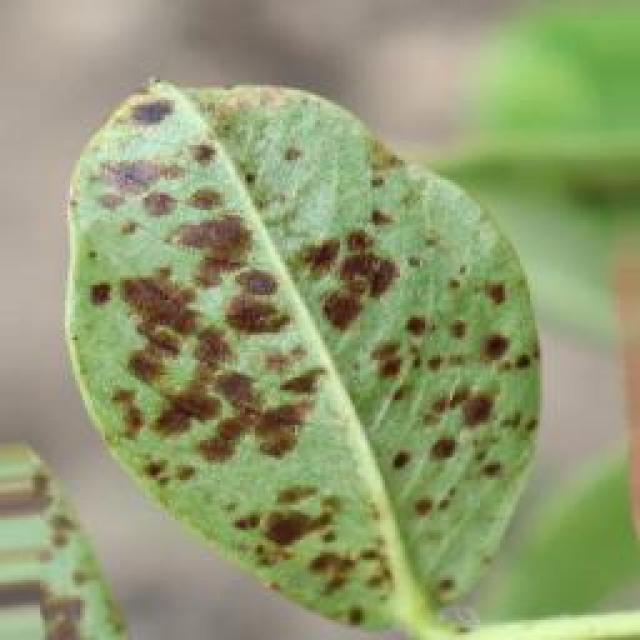Whitefly: (44, 51, 538, 634)
